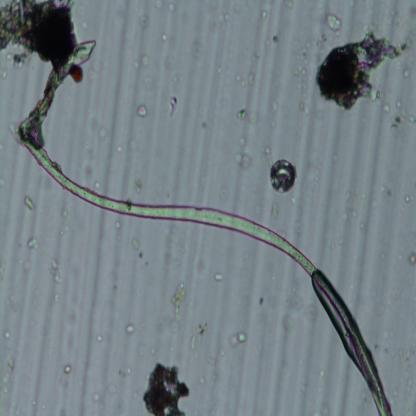Background material: (315, 23, 407, 110), (0, 0, 78, 69), (100, 55, 123, 194), (141, 361, 189, 416), (292, 34, 315, 96), (168, 281, 188, 335), (336, 359, 350, 416), (30, 366, 45, 416), (186, 322, 209, 351), (0, 355, 16, 396), (280, 315, 291, 373), (163, 223, 178, 263), (386, 1, 401, 38), (79, 354, 91, 398), (138, 55, 152, 89), (50, 257, 66, 286), (235, 67, 257, 88), (82, 141, 92, 183), (316, 27, 328, 62), (322, 10, 342, 31), (88, 118, 107, 139), (228, 329, 250, 347), (234, 152, 253, 172), (164, 52, 178, 78), (69, 64, 85, 85), (311, 166, 323, 192), (310, 401, 330, 415), (24, 234, 40, 251), (389, 112, 404, 130), (130, 176, 144, 193), (216, 186, 231, 201), (398, 38, 414, 52), (23, 194, 35, 212), (192, 42, 204, 60), (170, 93, 178, 119), (296, 100, 309, 116), (60, 370, 70, 390), (113, 219, 122, 241), (161, 32, 175, 46), (125, 319, 137, 335), (378, 184, 394, 196), (19, 258, 32, 272), (59, 202, 69, 220), (105, 381, 117, 396), (136, 105, 148, 120), (268, 97, 279, 113), (214, 268, 226, 282), (4, 325, 15, 340), (314, 366, 327, 378), (294, 222, 305, 236), (218, 12, 232, 23), (258, 145, 272, 156), (360, 388, 370, 403), (136, 343, 147, 356), (272, 201, 278, 224), (394, 98, 405, 110), (165, 0, 175, 13), (300, 382, 310, 395), (51, 288, 60, 302), (238, 134, 247, 148), (129, 239, 140, 250), (56, 406, 68, 416), (270, 33, 280, 45), (252, 203, 262, 215), (283, 0, 295, 10), (63, 362, 73, 374), (92, 392, 101, 405), (408, 250, 416, 264), (61, 224, 72, 234), (406, 27, 416, 38), (382, 330, 393, 340), (0, 262, 6, 279), (381, 102, 390, 113), (402, 69, 411, 80), (143, 16, 150, 30), (408, 7, 416, 19), (251, 111, 259, 123), (152, 0, 162, 9), (374, 344, 383, 354), (403, 193, 412, 203), (238, 108, 247, 118), (252, 50, 260, 61), (205, 354, 216, 362), (357, 222, 369, 229), (261, 8, 268, 20), (269, 120, 277, 129), (94, 180, 101, 190), (352, 209, 358, 220), (290, 195, 298, 203), (370, 200, 378, 208), (264, 40, 272, 48), (200, 121, 208, 129), (327, 242, 336, 249), (150, 346, 156, 356), (138, 321, 143, 332), (360, 191, 366, 200), (96, 335, 105, 341), (126, 366, 131, 376), (380, 252, 386, 260), (243, 48, 249, 56), (396, 254, 405, 259), (349, 0, 354, 9), (409, 117, 416, 123), (397, 350, 404, 356), (168, 345, 174, 352), (138, 250, 143, 258), (259, 296, 263, 306), (199, 378, 204, 386), (112, 284, 118, 290), (218, 66, 222, 74), (115, 147, 121, 152), (145, 259, 150, 265), (122, 372, 126, 379), (343, 214, 347, 220), (42, 405, 46, 410), (119, 369, 122, 375)
Diatom: (266, 157, 298, 197)
Microfibre: (20, 38, 392, 416)
